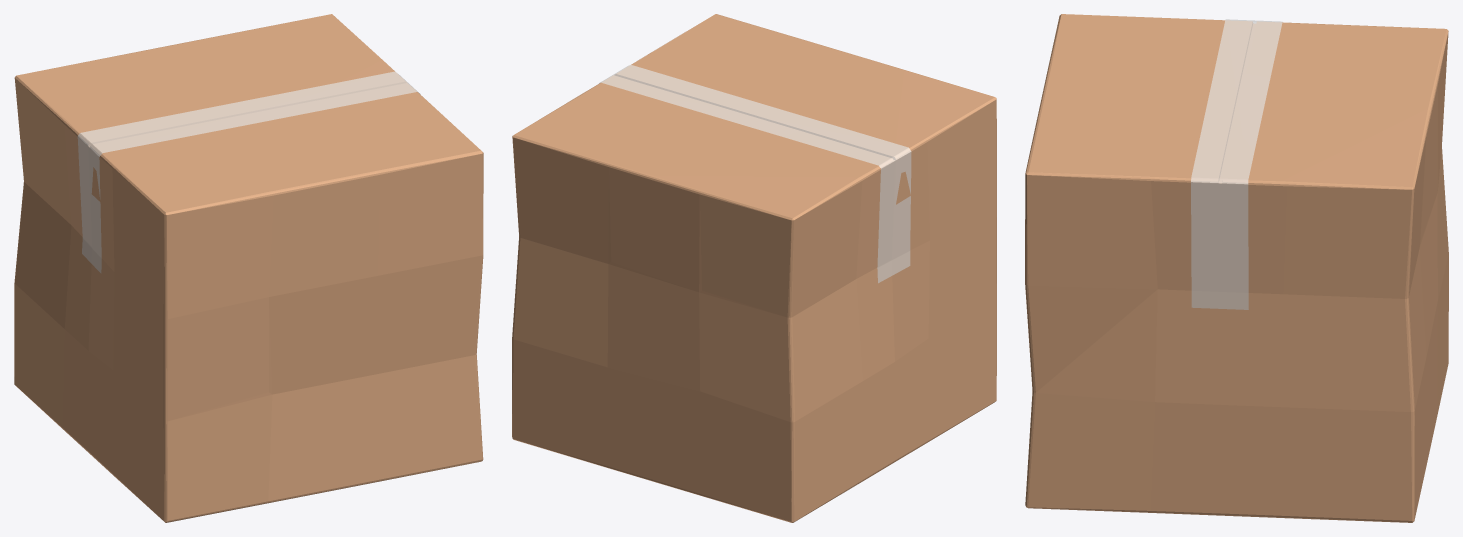
3 renders of one model, left to right at view 1: azimuth 30°, elevation 25°; view 2: azimuth 150°, elevation 25°; view 3: azimuth 270°, elevation 25°, orthographic. The views are drawn at different scales.
Parts seen in each view (by area): view 1: Cube.002; view 2: Cube.002; view 3: Cube.002.
Boxes of the visible parts, bbox=[...] form: Cube.002: bbox=[14, 14, 483, 522]; Cube.002: bbox=[512, 14, 996, 522]; Cube.002: bbox=[1025, 14, 1448, 522].
Size of the model in its own units: 295 by 265 by 302.
